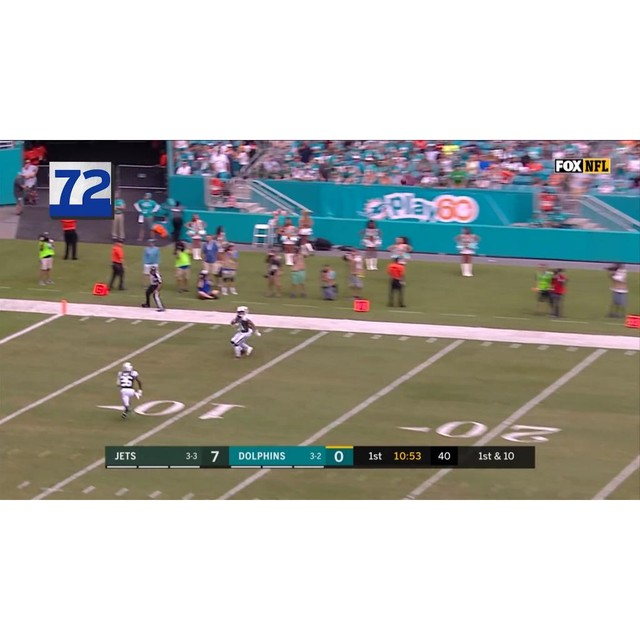american-football-player: (228, 305, 259, 358), (116, 361, 142, 420)
referee: (142, 264, 165, 312)
